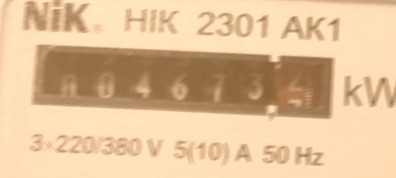0: (56, 66, 78, 97), (94, 66, 114, 98)
2: (284, 59, 305, 92)
3: (244, 66, 263, 101)
4: (132, 64, 152, 99)
6: (166, 65, 189, 100)
7: (204, 67, 228, 105)
screen: (26, 36, 338, 126)
